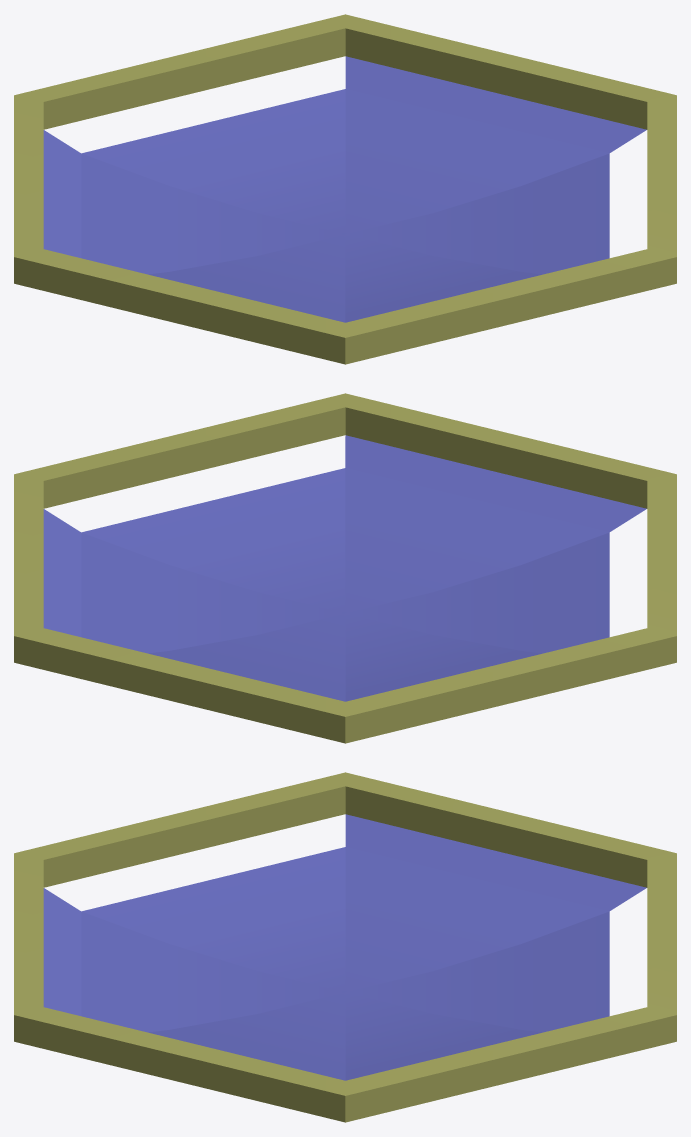
File: Trampoline.fbx
The picture shows the model from 3 angles, top to bottom: view 1: azimuth 30°, elevation 25°; view 2: azimuth 150°, elevation 25°; view 3: azimuth 270°, elevation 25°; orthographic projection.
Visible parts, largest first — view 1: pCylinder18; view 2: pCylinder18; view 3: pCylinder18.
Part boxes in pixels (bbox=[...]): pCylinder18: bbox=[14, 14, 676, 364]; pCylinder18: bbox=[14, 393, 676, 743]; pCylinder18: bbox=[14, 772, 676, 1122].
Bounding box in the file's own units: 9.25 × 0.7868 × 8.01.
